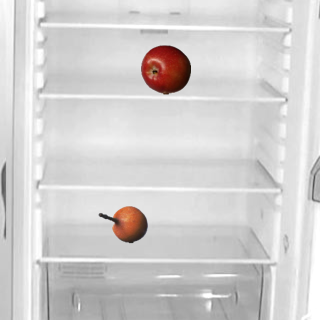Apple Braeburn: (140, 44, 190, 94)
Granadilla: (97, 199, 147, 249)
